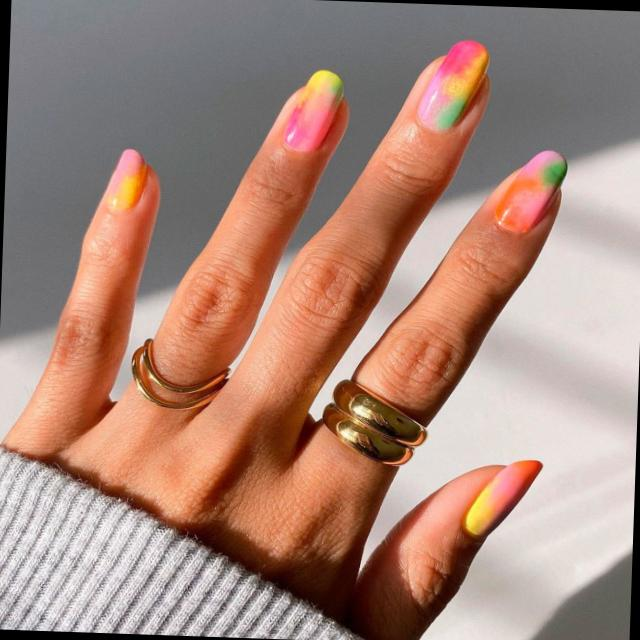Nail: (416, 40, 489, 131), (461, 460, 541, 539), (493, 150, 566, 232), (283, 70, 343, 152), (102, 149, 147, 210)
